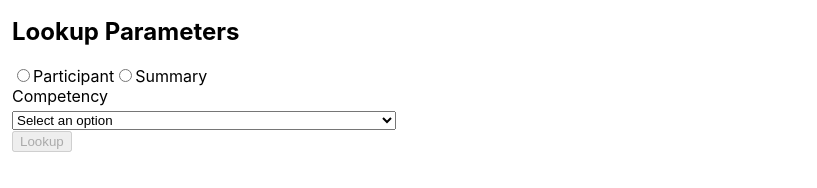
Test case: Lookup › Should render participant results
Expected: the heading "Lookup Parameters" is shown, [12,17,240,46]
Click the radio button labelled "Participant".
click(24, 75)  # box [17,69,30,82]
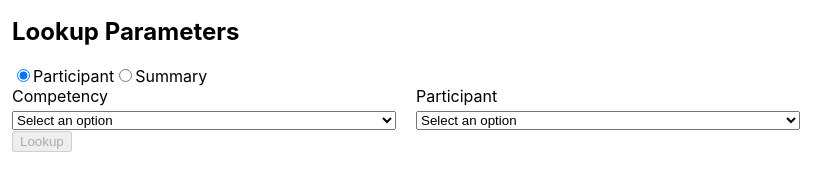
Expected: the heading "Lookup Parameters" is shown, [12,17,240,46]
Now the 2nd dropdown named "participant" is shown, box [416,111,800,130]
Select "Enthusiasm" in the dropdown named "competency" below "Competency" at [204, 120], box [12,111,396,130]
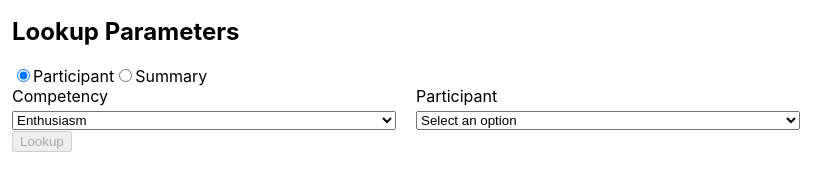
Select "Vera Voorbeeld" in the 2nd dropdown named "participant" at [608, 120], box [416,111,800,130]
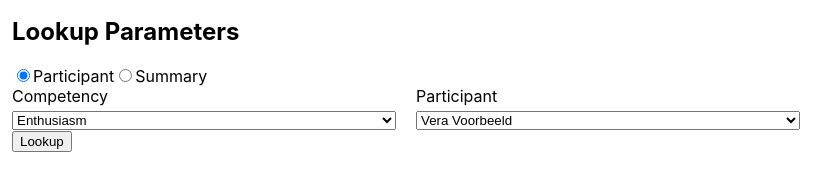
Now the submit button is enabled
Click the submit button.
click(42, 141)  # box [12,131,72,152]
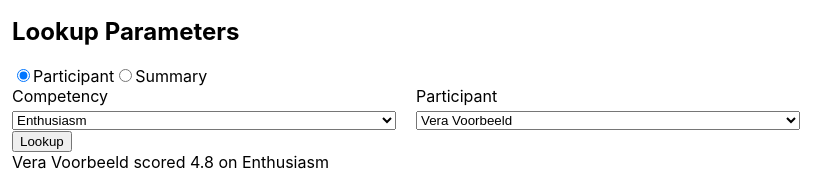
Now the text "Vera Voorbeeld scored 4.8 on Enthusiasm" is shown, box [12,152,329,172]
